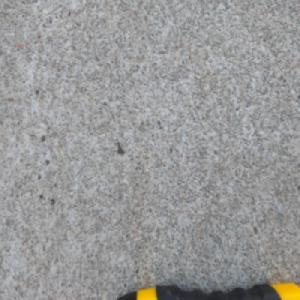Cutter: (111, 278, 300, 300)
